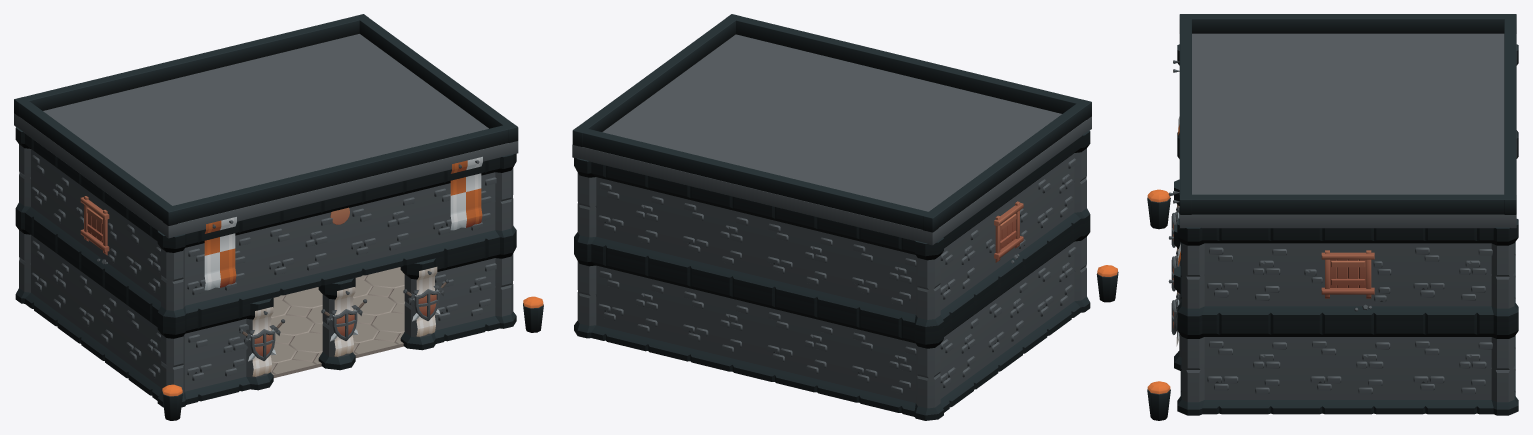
File: bank_forgehold.glb
3 renders of one model, left to right at view 1: azimuth 30°, elevation 25°; view 2: azimuth 150°, elevation 25°; view 3: azimuth 270°, elevation 25°, orthographic. The views are drawn at different scales.
Parts seen in each view (by area): view 1: bank_forgehold; view 2: bank_forgehold; view 3: bank_forgehold.
Part boxes in pixels (bbox=[...]): bank_forgehold: bbox=[14, 14, 543, 420]; bank_forgehold: bbox=[572, 14, 1118, 420]; bank_forgehold: bbox=[1147, 14, 1518, 420].
Bounding box in the file's own units: 13.89 × 7.16 × 10.81.
Materials: 4 (4 with a texture image).
